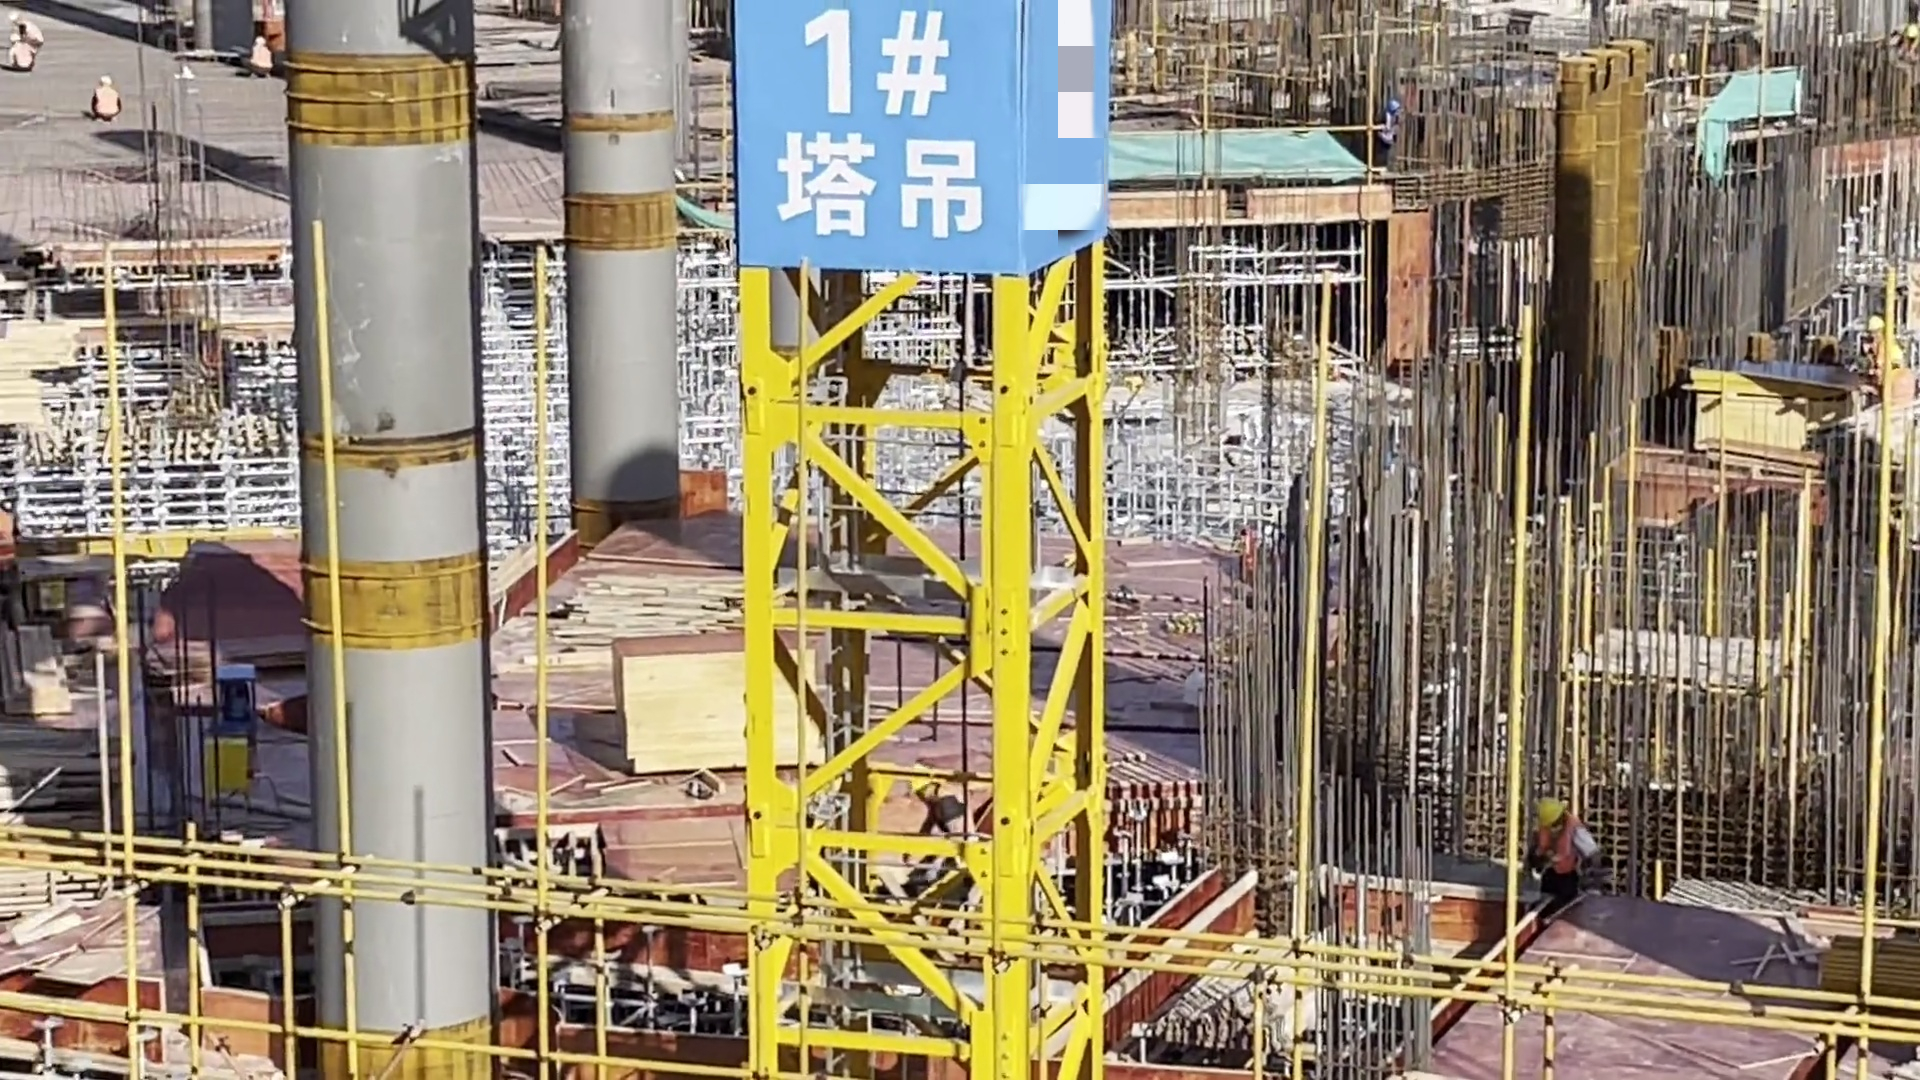board: (604, 611, 809, 787), (1681, 363, 1854, 463)
helmet: (1534, 798, 1573, 831), (906, 764, 941, 795), (1385, 95, 1405, 116), (1866, 315, 1886, 335), (253, 35, 268, 47), (100, 74, 112, 85), (10, 33, 20, 43)
person: (901, 763, 988, 915), (1519, 791, 1598, 899), (1863, 306, 1904, 374), (86, 68, 126, 133), (1373, 90, 1408, 163), (247, 33, 279, 90), (8, 29, 37, 79), (11, 15, 52, 49)
slogan: (736, 1, 1059, 251)
vest: (1531, 816, 1598, 882), (1870, 335, 1909, 392)
wood: (1, 623, 68, 724)
